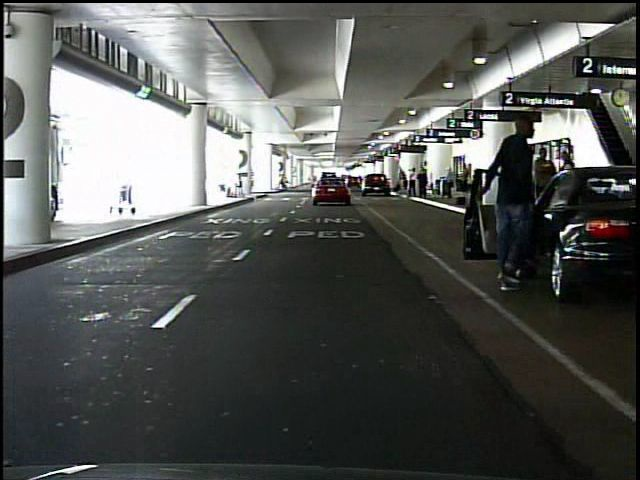person: (484, 111, 551, 301), (532, 146, 559, 233), (558, 150, 579, 229), (460, 163, 472, 206), (444, 167, 456, 201), (418, 168, 429, 201), (407, 167, 418, 200), (399, 170, 409, 197), (279, 173, 288, 190)
